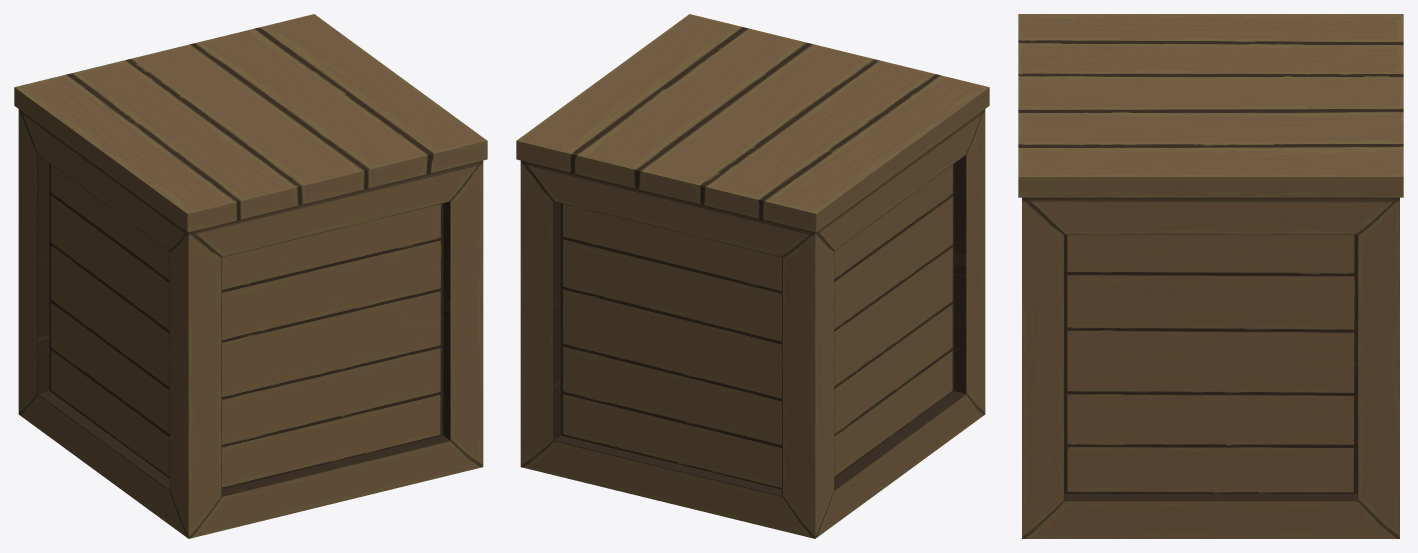
The model's file is Crate.glb.
3 views of the same model, side by side, from view 1: azimuth 30°, elevation 25°; view 2: azimuth 150°, elevation 25°; view 3: azimuth 270°, elevation 25° (orthographic). The views are drawn at different scales.
Visible parts, largest first — view 1: Crate; view 2: Crate; view 3: Crate.
Boxes of the visible parts, left/top/right/bottom form: Crate: left=14, top=14, right=487, bottom=538; Crate: left=516, top=14, right=989, bottom=538; Crate: left=1018, top=14, right=1403, bottom=538.
Bounding box in the file's own units: 2.92 × 3.04 × 2.92.
Materials: 1 (1 with a texture image).
